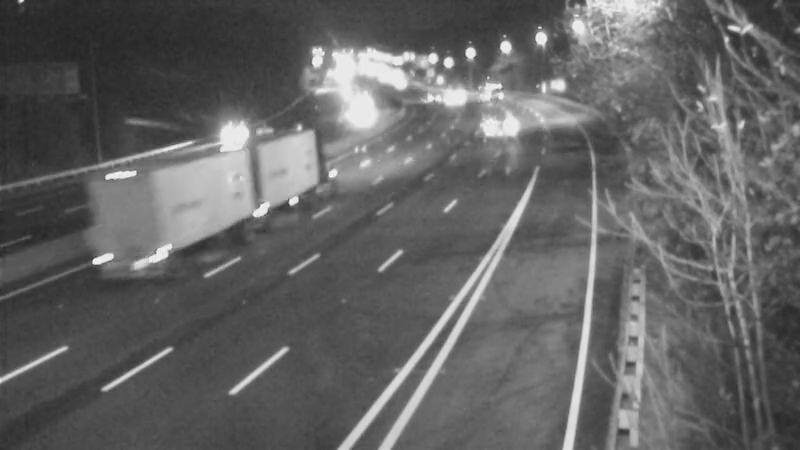vehicle: (132, 162, 212, 242), (466, 69, 516, 119), (430, 70, 480, 120), (405, 71, 455, 121), (477, 98, 527, 148), (204, 110, 254, 160), (335, 90, 385, 140)
